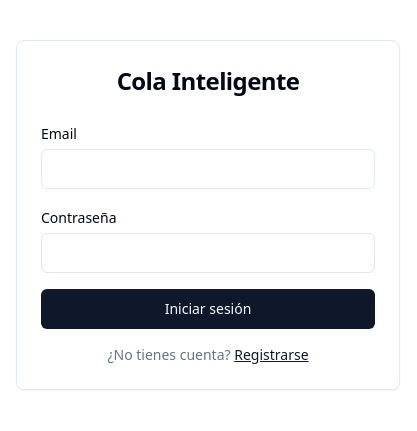
LoginPage — validación Zod › muestra error si el email es inválido
The image size is (417, 431).
Type "no-es-email" into the field labelled "Email" at [208, 169], box [41,149,375,189]
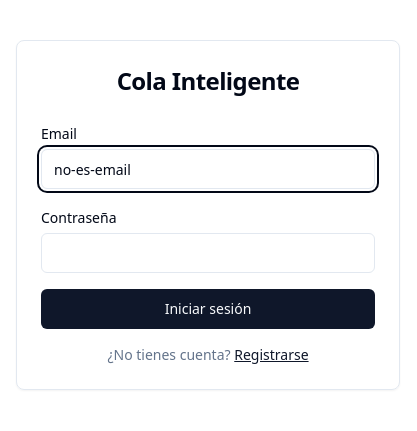
Click the button "Iniciar sesión" at [208, 309], box [41,289,375,329]
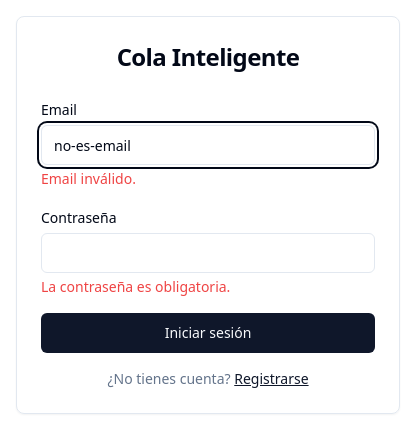
Now the text "Email inválido." is shown, box [41,169,136,188]
